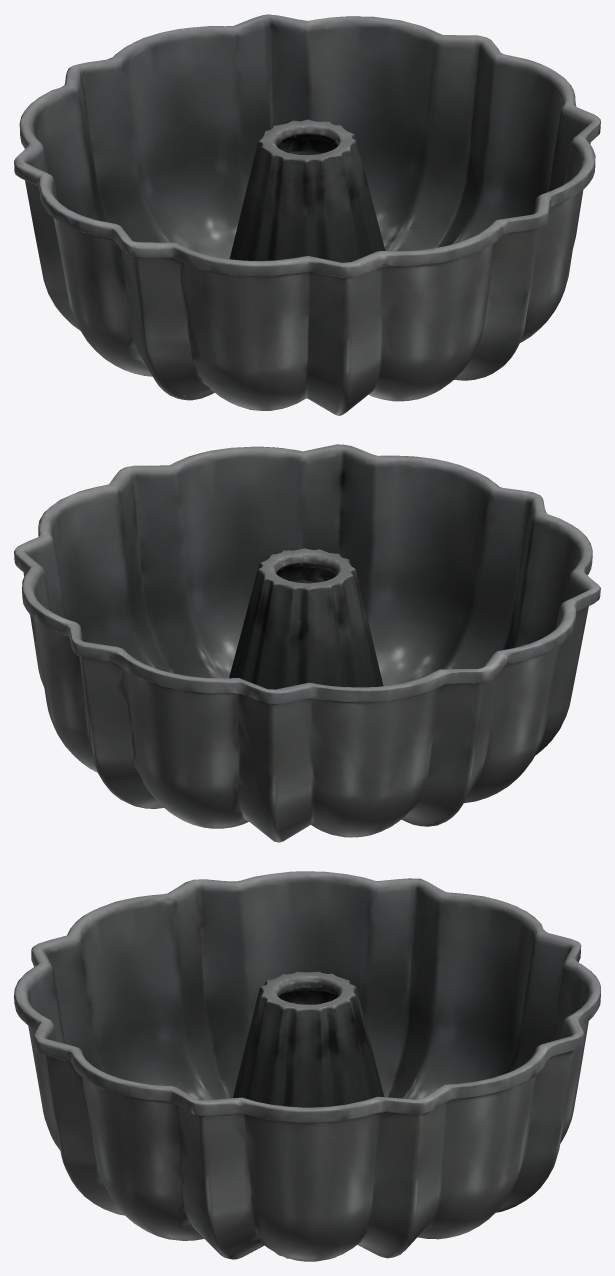
Rendered from Nordic_Ware_Original_Bundt_Pan.glb.
3 views of the same model, one above another, from view 1: azimuth 30°, elevation 25°; view 2: azimuth 150°, elevation 25°; view 3: azimuth 270°, elevation 25° (orthographic).
Parts seen in each view (by area): view 1: Nordic_Ware_Original_Bundt_Pan; view 2: Nordic_Ware_Original_Bundt_Pan; view 3: Nordic_Ware_Original_Bundt_Pan.
Boxes of the visible parts, x1=… form: Nordic_Ware_Original_Bundt_Pan: x1=14, y1=14, x2=600, y2=415; Nordic_Ware_Original_Bundt_Pan: x1=14, y1=444, x2=600, y2=842; Nordic_Ware_Original_Bundt_Pan: x1=14, y1=871, x2=600, y2=1261.
Bounding box in the file's own units: 0.2639 × 0.1 × 0.2634.
1 material, 1 textured.
